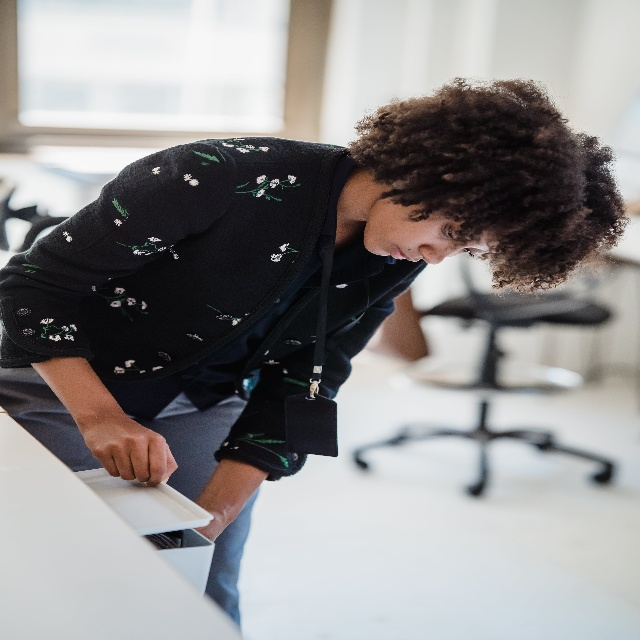Sin_guantes: (83, 415, 179, 488)
